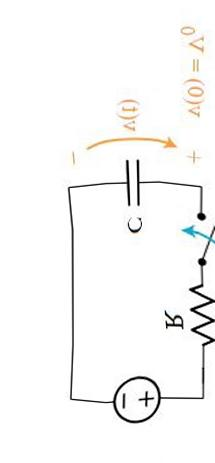Battery: (96, 362, 177, 442)
